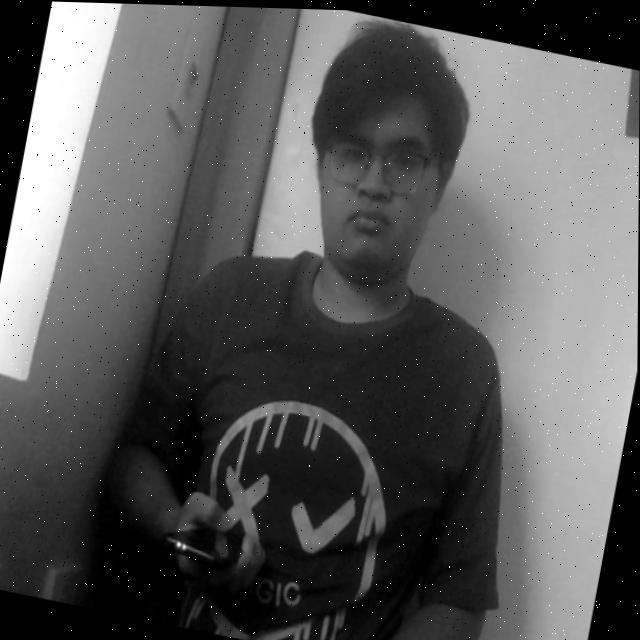phone: (154, 510, 272, 597)
